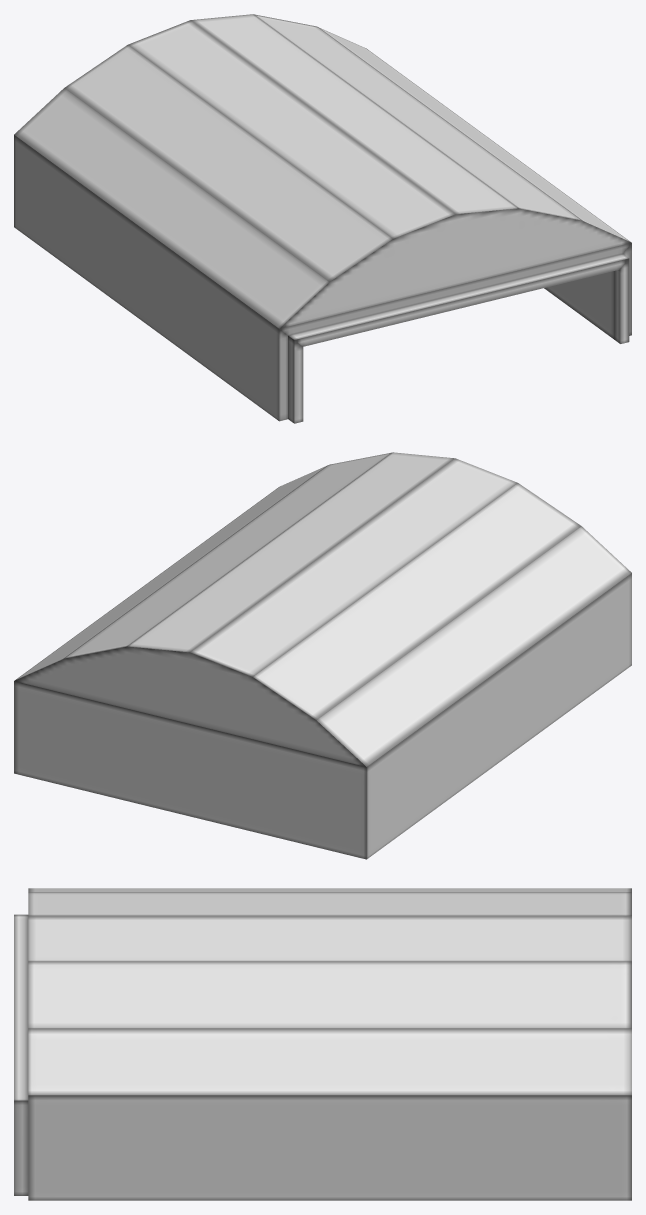
Rendered from Hangar-01.fbx.
3 renders of one model, top to bottom at view 1: azimuth 30°, elevation 25°; view 2: azimuth 150°, elevation 25°; view 3: azimuth 270°, elevation 25°, orthographic. The views are drawn at different scales.
Parts seen in each view (by area): view 1: Hangar_01; view 2: Hangar_01; view 3: Hangar_01.
Boxes of the visible parts, x1,y1,x2,y2 form: Hangar_01: (14,14,631,423); Hangar_01: (14,452,631,859); Hangar_01: (14,888,631,1200).
Bounding box in the file's own units: 2.91 × 1.29 × 3.88.
